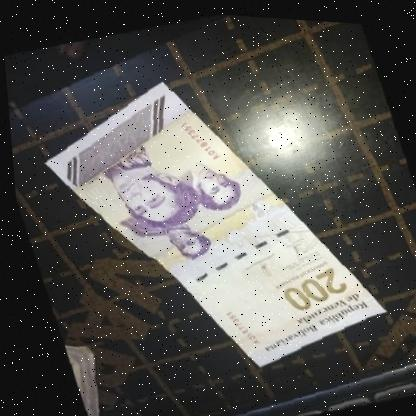two_hundred-front-vef: (20, 38, 396, 404)
